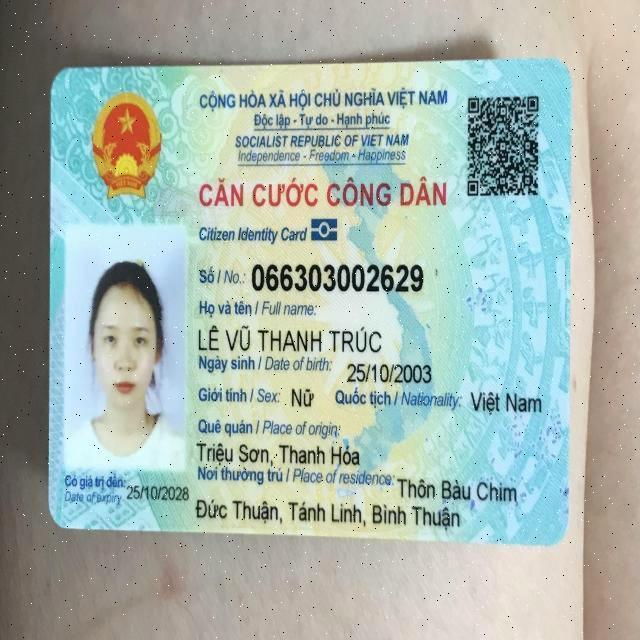current_place: (196, 495, 462, 532), (395, 475, 520, 502)
dob: (344, 358, 432, 385)
expire_date: (127, 483, 189, 504)
gender: (283, 383, 323, 410)
id: (249, 256, 425, 297)
name: (192, 319, 391, 356)
nationality: (468, 388, 543, 419)
origin_place: (197, 437, 365, 469)
qr: (462, 94, 547, 200)
